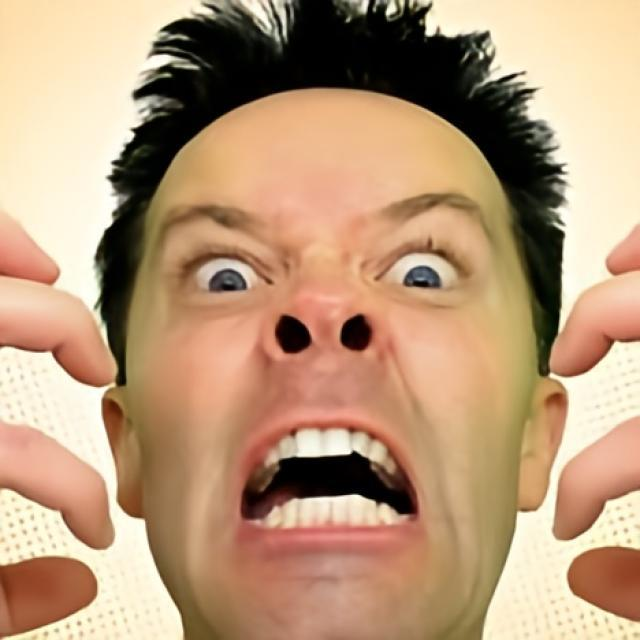anger: (128, 87, 529, 640)
